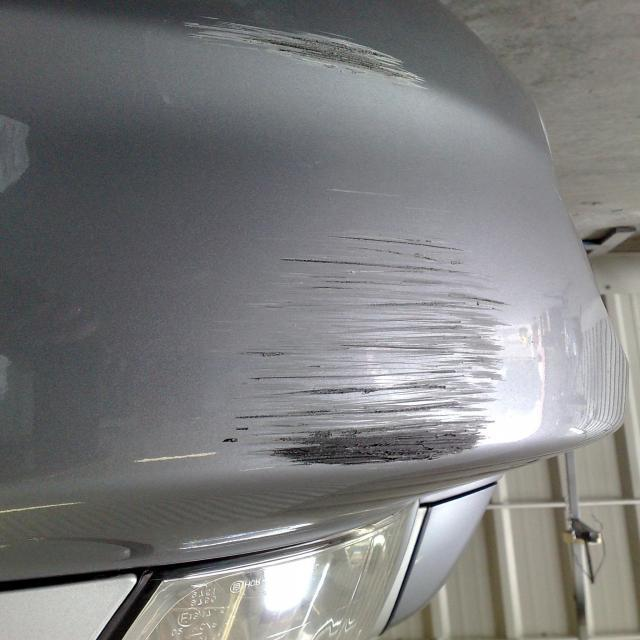scratch: (167, 167, 534, 476), (109, 0, 449, 91)
